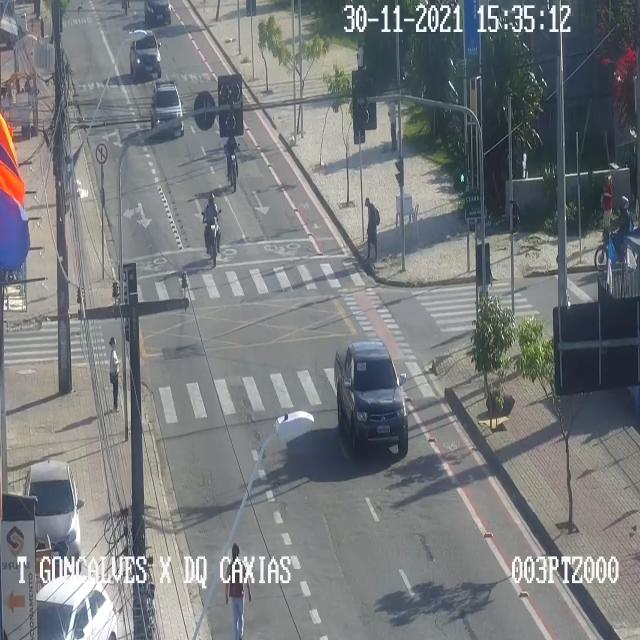Car: (334, 338, 410, 458), (24, 458, 84, 572), (37, 576, 118, 639), (151, 83, 185, 134), (130, 36, 163, 76), (146, 0, 173, 28)
Motorcycle: (594, 198, 640, 270), (201, 194, 221, 270), (224, 130, 240, 194)
